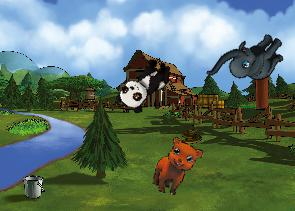bear: (149, 134, 205, 201)
elephant: (205, 15, 291, 104)
panda: (113, 51, 176, 117)
